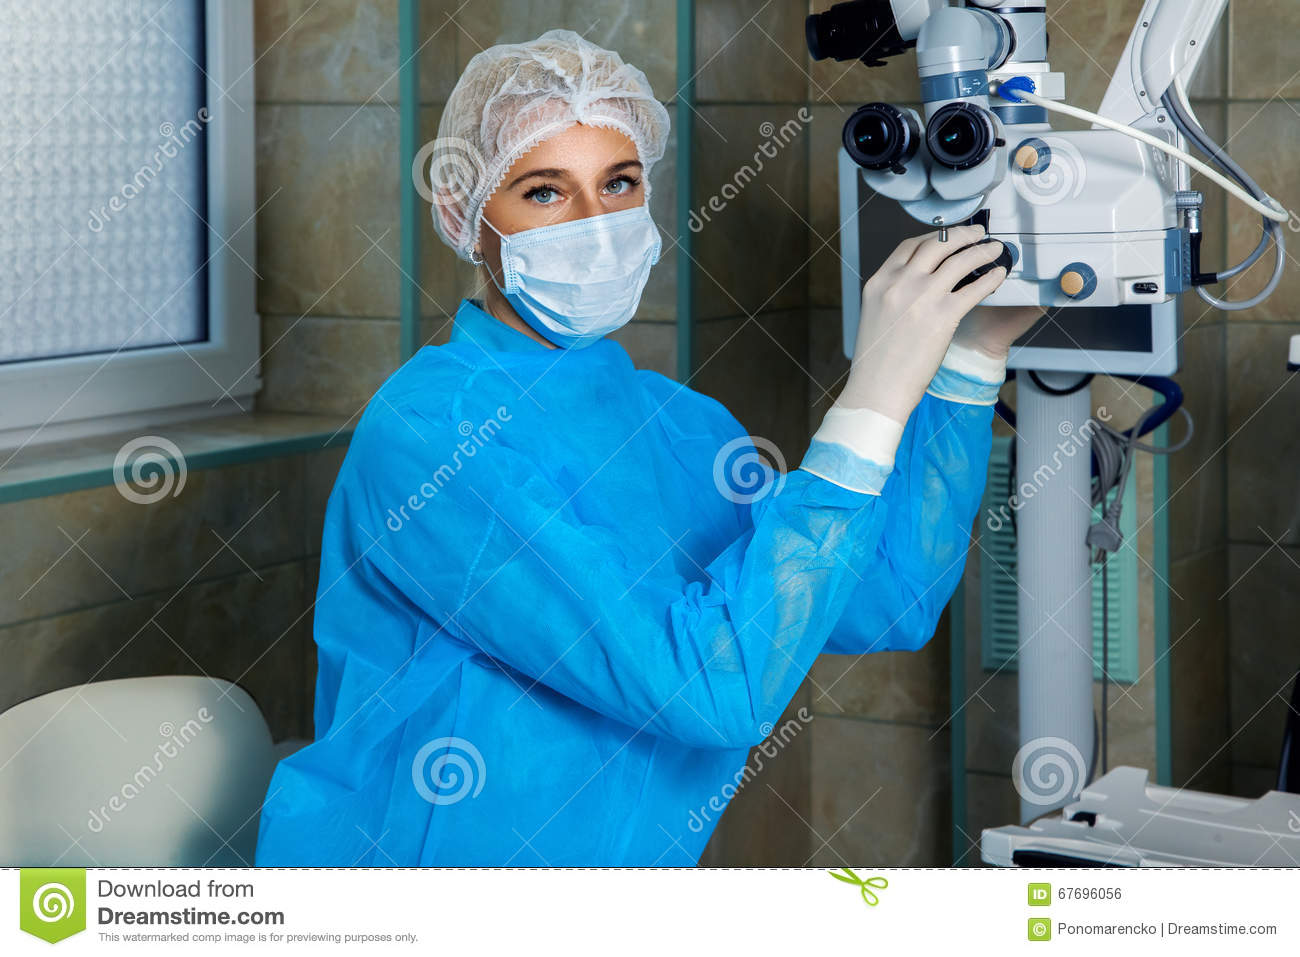mask: (498, 221, 670, 342)
